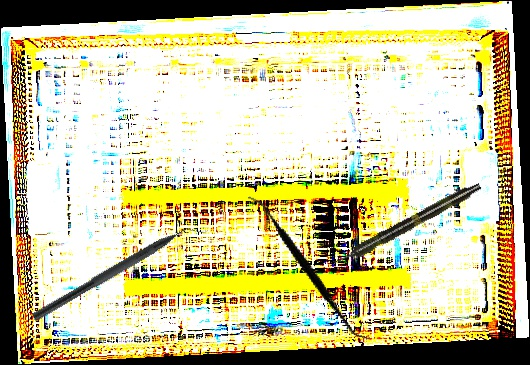Chopper: (31, 214, 208, 334)
Handpiece: (330, 179, 484, 270)
Spatula Surgical: (215, 195, 403, 341)
